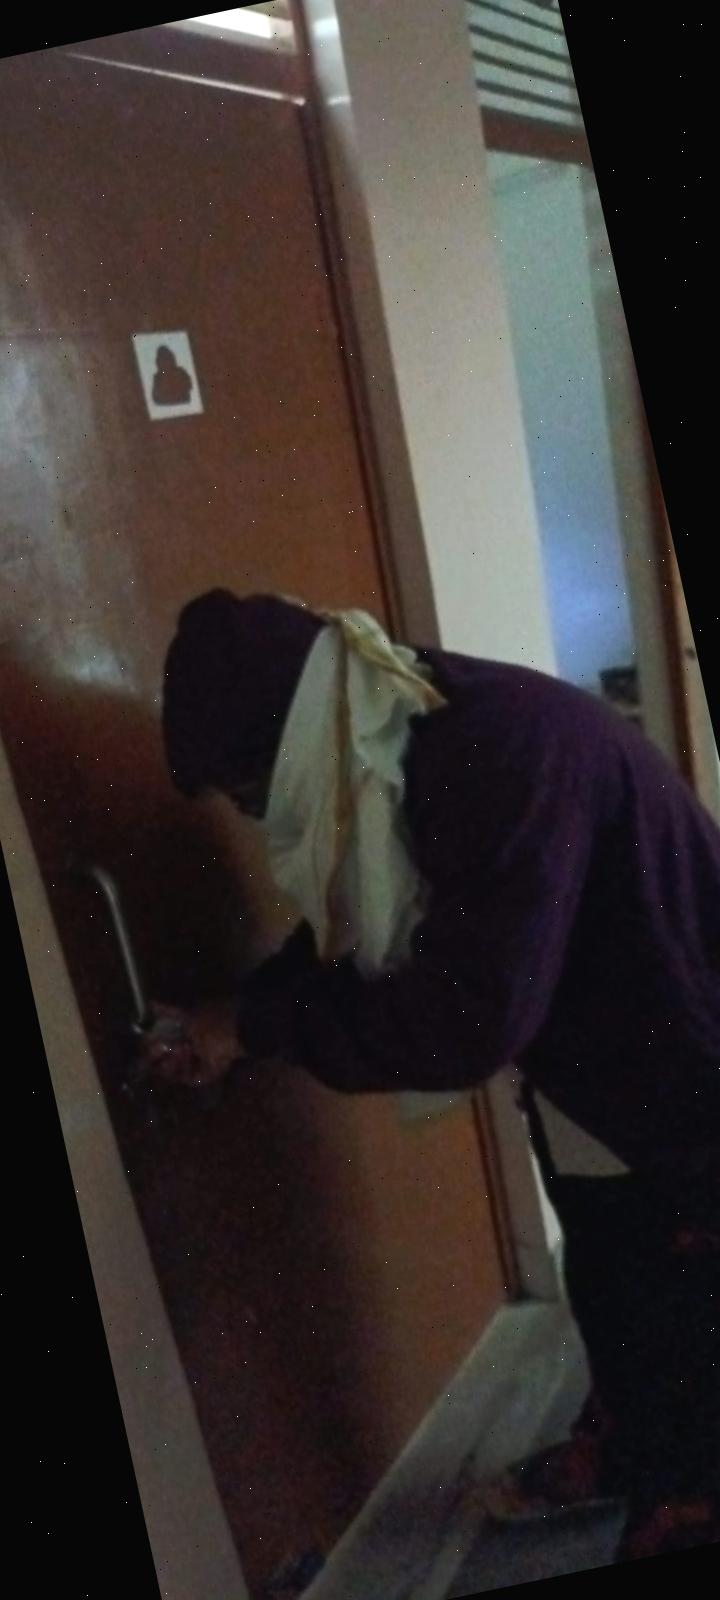suspicion: (0, 363, 720, 1600), (76, 470, 720, 1600)
